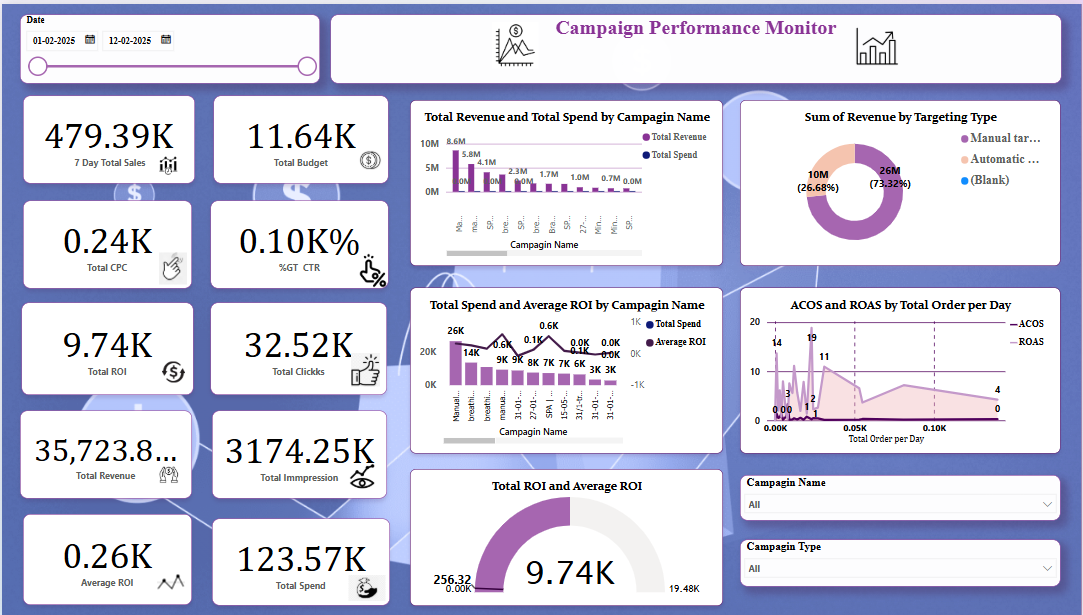

The dashboard page shown, as its layout file describes it:
{"tool":"powerbi","page":{"name":"Campaign Performance Monitor","canvas":[1440,820],"ordinal":0},"visuals":[{"type":"card","fields":{"Values":["Sheet1.Average ROI"]},"box":[27.5,680.4,225.5,121.6],"z":0},{"type":"card","fields":{"Values":["Sum(Sheet1.Revenue)"]},"box":[23.5,541.2,229.4,117.6],"z":1000},{"type":"card","fields":{"Values":["Sum(Sheet1.Return of Investment)"]},"box":[25.5,398,229.4,123.5],"z":2000},{"type":"card","fields":{"Values":["Sum(Sheet1.CPC)"]},"box":[27.5,262.7,225.5,117.6],"z":3000},{"type":"card","fields":{"Values":["Sum(Sheet1.CTR)"]},"box":[278.4,262.7,237.3,117.6],"z":4000},{"type":"card","fields":{"Values":["Sum(Sheet1.Clickks)"]},"box":[278.4,398,235.3,123.5],"z":5000},{"type":"card","fields":{"Values":["Sum(Sheet1.Immpression)"]},"box":[280.4,541.2,233.3,117.6],"z":6000},{"type":"card","fields":{"Values":["Sheet1.Total Spend"]},"box":[280.4,686.3,237.3,115.7],"z":7000},{"type":"card","fields":{"Values":["Sum(Sheet1.7 Day Total Sales (₹))"]},"box":[27.5,121.6,229.4,117.6],"z":8000},{"type":"card","fields":{"Values":["Sum(Sheet1.Budget)"]},"box":[282.4,121.6,233.3,117.6],"z":9000},{"type":"clusteredColumnChart","fields":{"Y":["Sheet1.Total Revenue","Sheet1.Total Spend"],"Category":["Sheet1.Campagin Name"]},"box":[543.1,127.5,417.6,221.6],"z":10000},{"type":"donutChart","fields":{"Y":["Sum(Sheet1.Revenue)"],"Category":["Sheet1.Targeting Type"]},"box":[984.3,127.5,427.5,221.6],"z":11000},{"type":"lineClusteredColumnComboChart","fields":{"Y":["Sheet1.Total Spend"],"Y2":["Sheet1.Average ROI"],"Category":["Sheet1.Campagin Name"]},"box":[543.1,378.4,417.6,221.6],"z":12000},{"type":"lineChart","fields":{"Y":["Sum(Sheet1.Total Advertising Cost of Sales (ACOS))","Sum(Sheet1.Total Return on Advertising Spend (ROAS))"],"Category":["Sheet1.Day Total Order"]},"box":[984.3,378.4,427.5,221.6],"z":13000},{"type":"slicer","fields":{"Values":["Sheet1.Start Date"]},"box":[23.5,13.7,400,92.2],"z":14000},{"type":"gauge","fields":{"Y":["Sheet1.Total ROI"],"TargetValue":["Sheet1.Average ROI"]},"box":[543.1,619.6,417.6,182.4],"z":15000},{"type":"slicer","fields":{"Values":["Sheet1.Campagin Name"]},"box":[984.3,627.5,427.5,60.8],"z":16000},{"type":"slicer","fields":{"Values":["Sheet1.Campagin Type"]},"box":[984.3,713.7,427.5,62.7],"z":17000},{"type":"image","box":[135.3,745.1,178.4,49],"z":18000},{"type":"image","box":[466.7,184.3,49,49],"z":19000},{"type":"textbox","box":[437.3,13.7,974.5,92.2],"z":20000},{"type":"image","box":[647.1,13.7,72.5,82.4],"z":21000},{"type":"image","box":[1119.6,15.7,94.1,80.4],"z":22000},{"type":"image","box":[168.6,198,107.8,35.3],"z":23000},{"type":"image","box":[196.1,605.9,52.9,43.1],"z":24000},{"type":"image","box":[458.8,460.8,52.9,54.9],"z":25000},{"type":"image","box":[207.8,415.7,41.2,149],"z":26000},{"type":"image","box":[174.5,325.5,107.8,52.9],"z":27000},{"type":"image","box":[411.8,756.9,149,45.1],"z":28000},{"type":"image","box":[466.7,325.5,56.9,58.8],"z":29000},{"type":"image","box":[451,605.9,60.8,47.1],"z":30000}]}

Visuals, with their boxes in screenshot pixels (x1, y1, x2, y2), scaled from the page's 1440x820 canvas onto the 1083x615 screenshot:
card - Sheet1.Average ROI: pyautogui.locateOnScreen(21, 510, 190, 602)
card - Sum(Sheet1.Revenue): pyautogui.locateOnScreen(18, 406, 190, 494)
card - Sum(Sheet1.Return of Investment): pyautogui.locateOnScreen(19, 298, 192, 391)
card - Sum(Sheet1.CPC): pyautogui.locateOnScreen(21, 197, 190, 285)
card - Sum(Sheet1.CTR): pyautogui.locateOnScreen(209, 197, 388, 285)
card - Sum(Sheet1.Clickks): pyautogui.locateOnScreen(209, 298, 386, 391)
card - Sum(Sheet1.Immpression): pyautogui.locateOnScreen(211, 406, 386, 494)
card - Sheet1.Total Spend: pyautogui.locateOnScreen(211, 515, 389, 602)
card - Sum(Sheet1.7 Day Total Sales (₹)): pyautogui.locateOnScreen(21, 91, 193, 179)
card - Sum(Sheet1.Budget): pyautogui.locateOnScreen(212, 91, 388, 179)
clusteredColumnChart - Sheet1.Total Revenue x Sheet1.Total Spend: pyautogui.locateOnScreen(408, 96, 723, 262)
donutChart - Sum(Sheet1.Revenue) x Sheet1.Targeting Type: pyautogui.locateOnScreen(740, 96, 1062, 262)
lineClusteredColumnComboChart - Sheet1.Total Spend x Sheet1.Average ROI: pyautogui.locateOnScreen(408, 284, 723, 450)
lineChart - Sum(Sheet1.Total Advertising Cost of Sales (ACOS)) x Sum(Sheet1.Total Return on Advertising Spend (ROAS)): pyautogui.locateOnScreen(740, 284, 1062, 450)
slicer - Sheet1.Start Date: pyautogui.locateOnScreen(18, 10, 319, 79)
gauge - Sheet1.Total ROI x Sheet1.Average ROI: pyautogui.locateOnScreen(408, 465, 723, 602)
slicer - Sheet1.Campagin Name: pyautogui.locateOnScreen(740, 471, 1062, 516)
slicer - Sheet1.Campagin Type: pyautogui.locateOnScreen(740, 535, 1062, 582)
image: pyautogui.locateOnScreen(102, 559, 236, 596)
image: pyautogui.locateOnScreen(351, 138, 388, 175)
textbox: pyautogui.locateOnScreen(329, 10, 1062, 79)
image: pyautogui.locateOnScreen(487, 10, 541, 72)
image: pyautogui.locateOnScreen(842, 12, 913, 72)
image: pyautogui.locateOnScreen(127, 148, 208, 175)
image: pyautogui.locateOnScreen(147, 454, 187, 487)
image: pyautogui.locateOnScreen(345, 346, 385, 387)
image: pyautogui.locateOnScreen(156, 312, 187, 424)
image: pyautogui.locateOnScreen(131, 244, 212, 284)
image: pyautogui.locateOnScreen(310, 568, 422, 602)
image: pyautogui.locateOnScreen(351, 244, 394, 288)
image: pyautogui.locateOnScreen(339, 454, 385, 490)
